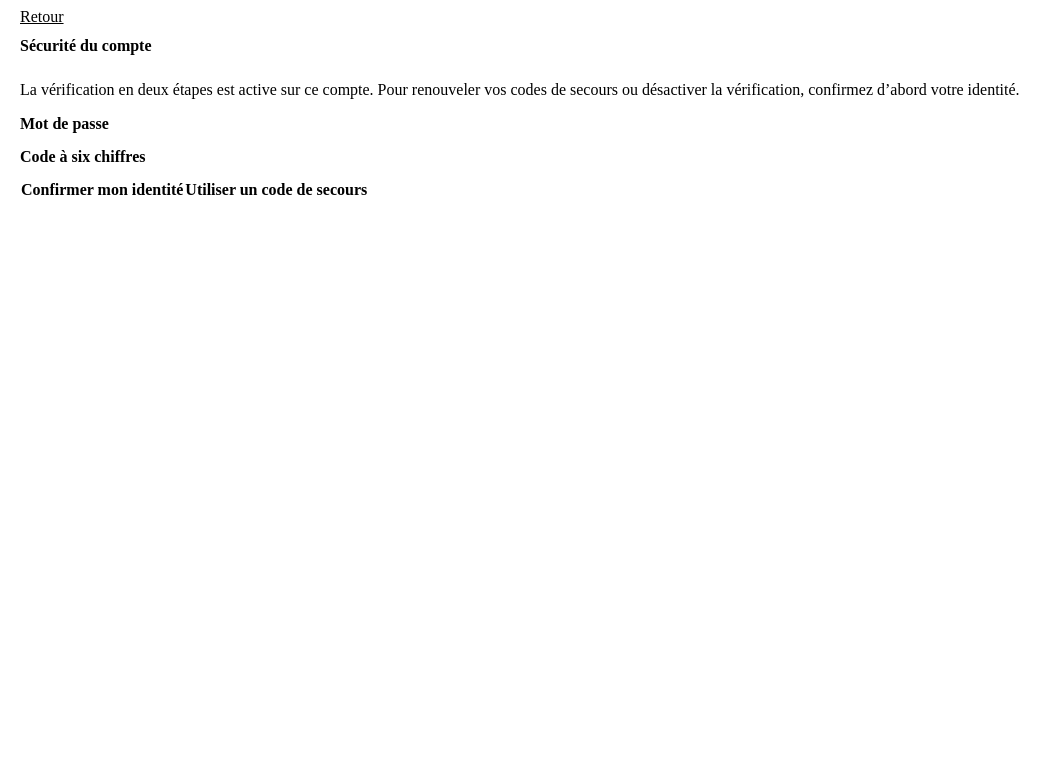
it: SecurityPage › an account that has an authenticator › sends the password and the code to confirm, then offers the two actions
Type "un-mot-de-passe-long" into the password field labelled "Mot de passe" at (524, 141), box [20,133,1028,148]
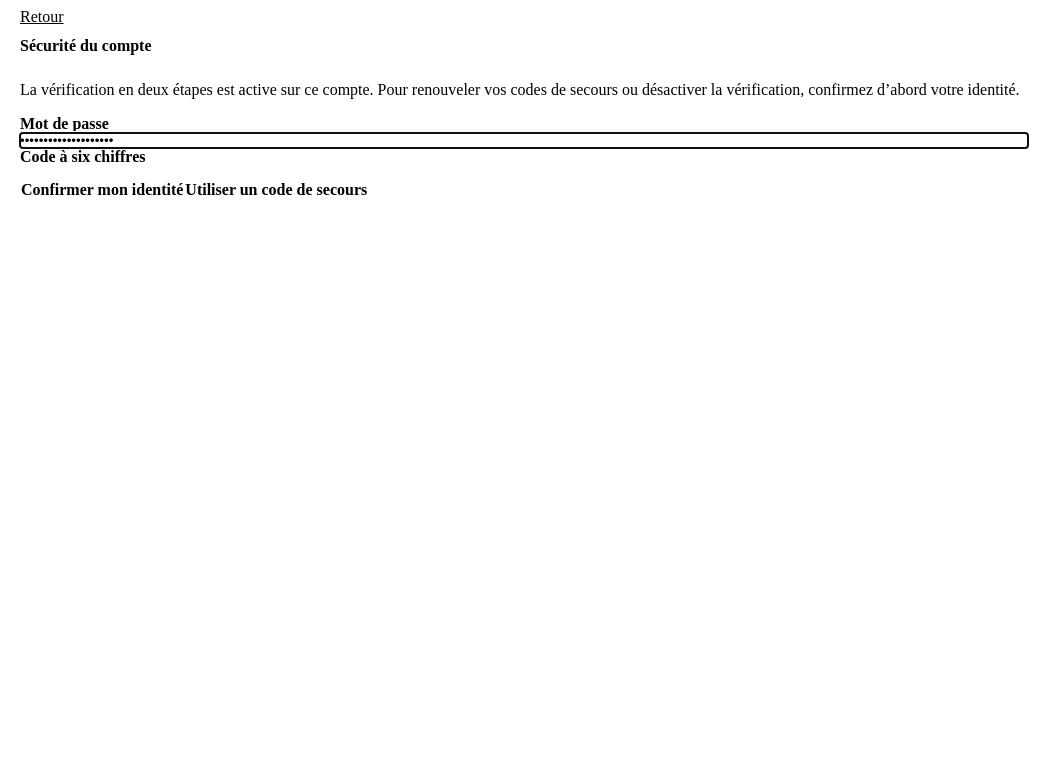
Type "123456" into the field labelled "Code à six chiffres" at (524, 174), box [20,166,1028,181]
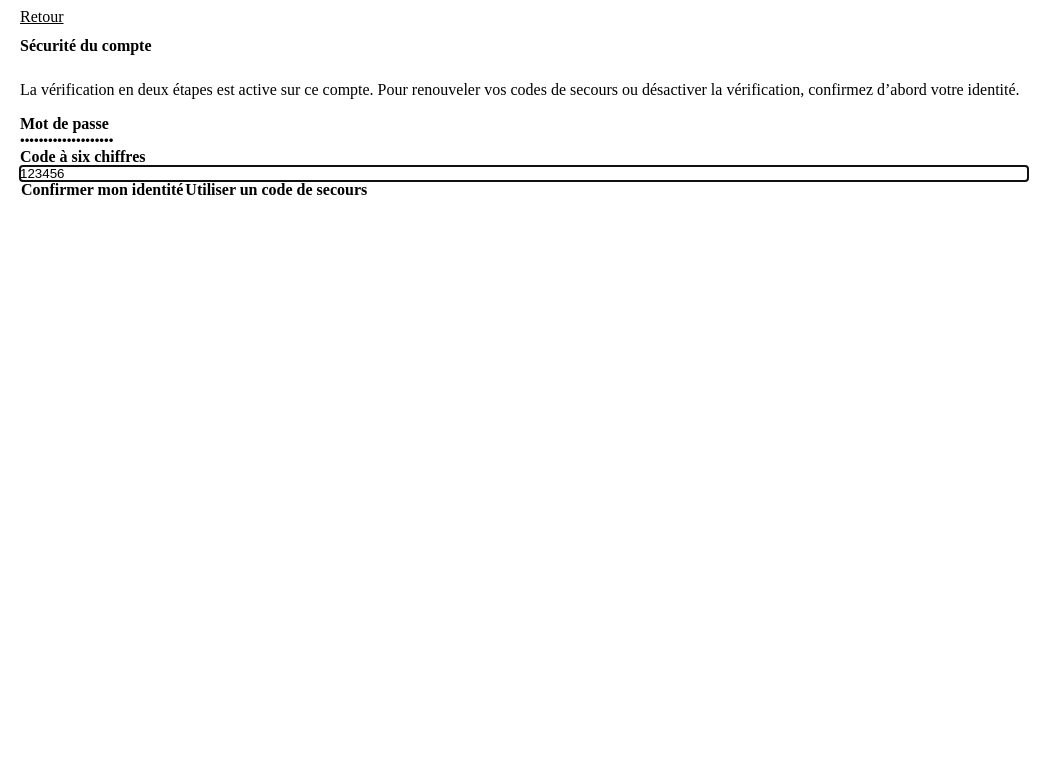
Click the button "Confirmer mon identité" at (102, 190), box [20,181,184,199]
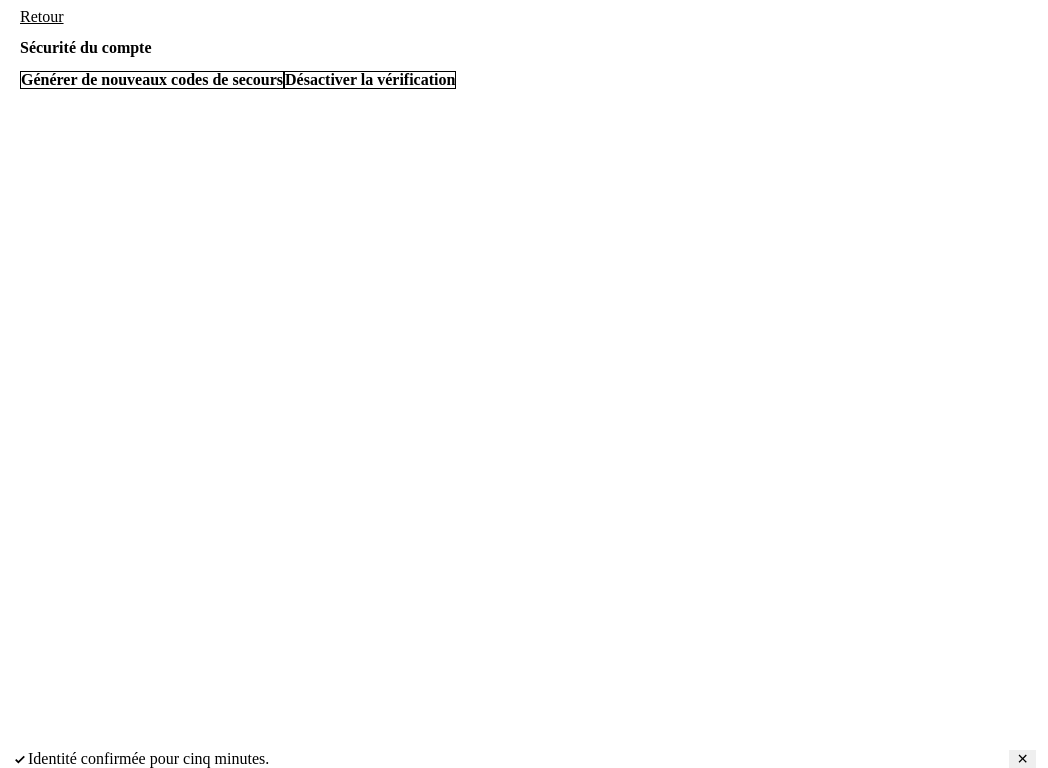
Now the button "Générer de nouveaux codes de secours" is shown, box [20,70,284,88]
Now the button "Désactiver la vérification" is shown, box [284,70,456,88]
Now the element "Sécurité du compte" is shown, box [20,39,456,89]
